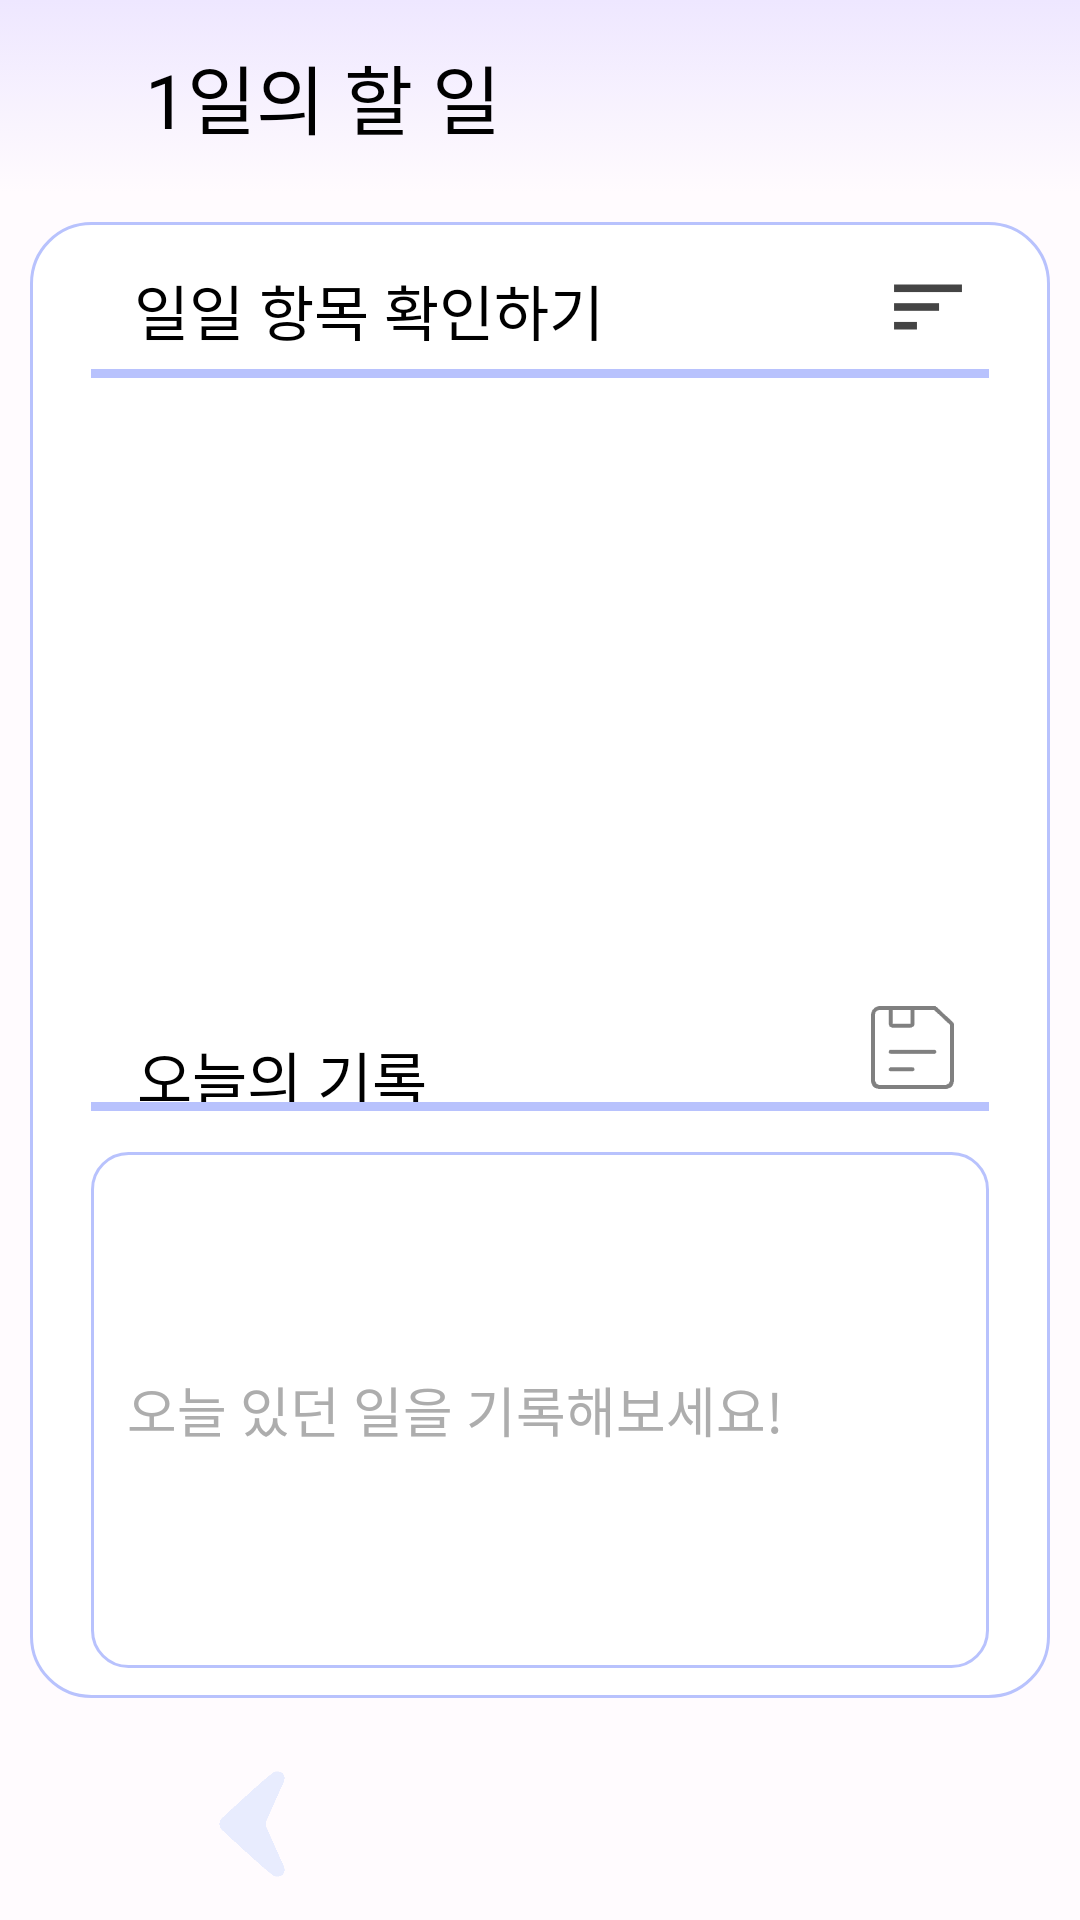

Icons on this 1080*1920 Android screen, each with its box as region(x1, y1, x2, y2):
save: region(871, 1006, 954, 1089)
